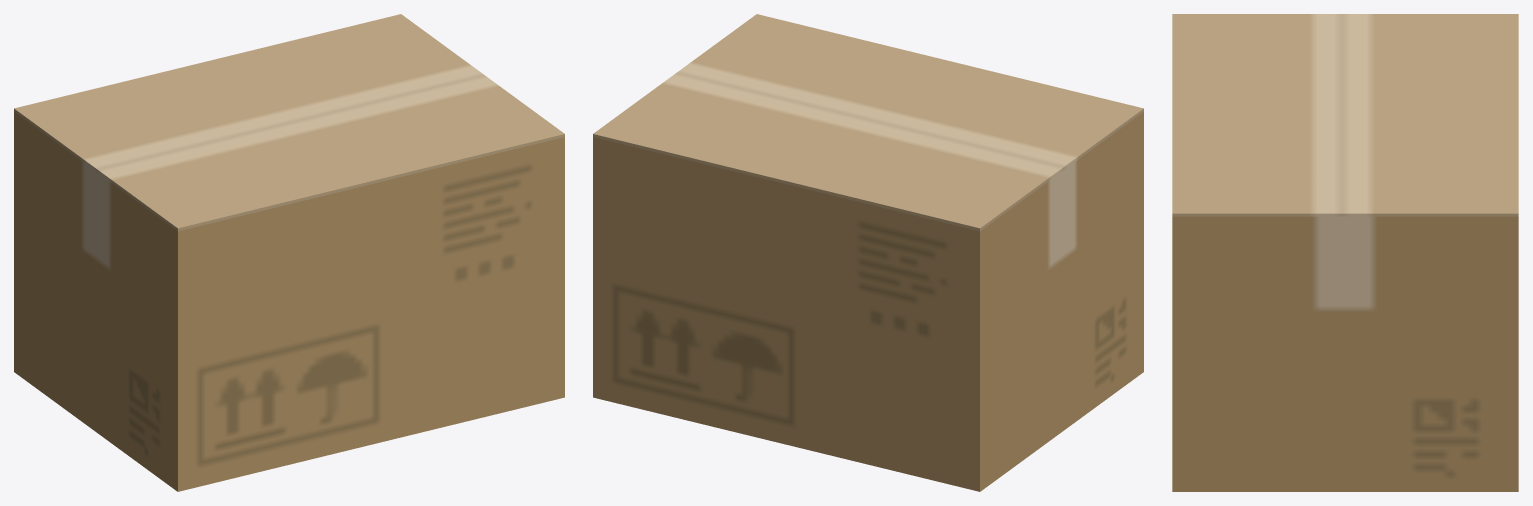
The model's file is Cardboard box (1).fbx.
3 views of the same model, side by side, from view 1: azimuth 30°, elevation 25°; view 2: azimuth 150°, elevation 25°; view 3: azimuth 270°, elevation 25° (orthographic). The views are drawn at different scales.
Parts seen in each view (by area): view 1: Cardboard Box, Cardboard panel 2, Cardboard panel 1; view 2: Cardboard Box, Cardboard panel 1, Cardboard panel 2; view 3: Cardboard Box, Cardboard panel 1, Cardboard panel 2.
Boxes of the visible parts, left/top/right/bottom form: Cardboard Box: left=14, top=112, right=564, bottom=491; Cardboard panel 2: left=96, top=74, right=564, bottom=231; Cardboard panel 1: left=14, top=14, right=482, bottom=171; Cardboard Box: left=593, top=112, right=1143, bottom=491; Cardboard panel 1: left=593, top=74, right=1061, bottom=231; Cardboard panel 2: left=675, top=14, right=1143, bottom=171; Cardboard Box: left=1172, top=216, right=1518, bottom=491; Cardboard panel 1: left=1345, top=14, right=1518, bottom=216; Cardboard panel 2: left=1172, top=14, right=1345, bottom=216.
Bounding box in the file's own units: 0.4331 × 0.2818 × 0.3175.
